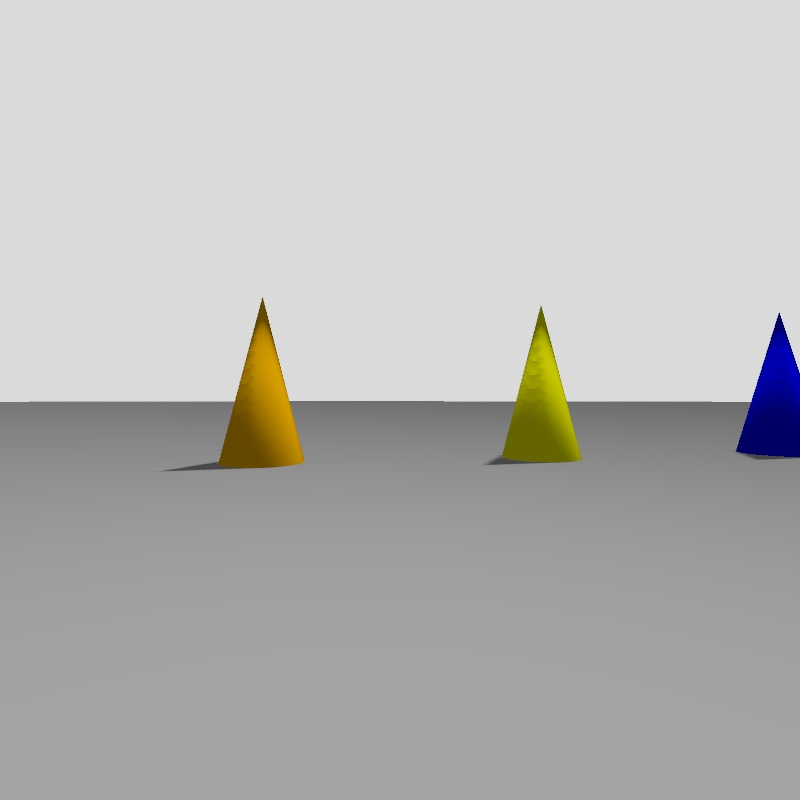Blue_cone: (737, 314, 799, 456)
Orange_cone: (218, 299, 303, 467)
Yellow_cone: (502, 307, 580, 462)
